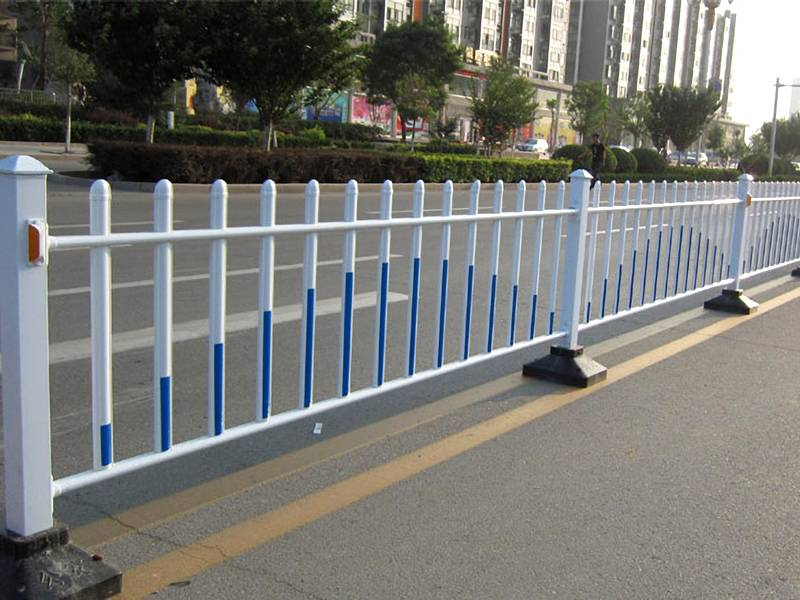Fence: (23, 174, 800, 384)
Tree: (204, 6, 360, 161), (81, 8, 192, 169), (362, 21, 464, 158), (469, 58, 542, 173), (641, 84, 732, 173), (566, 89, 630, 145)
